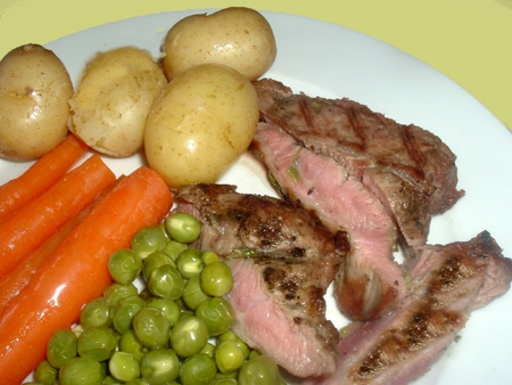background: (0, 3, 410, 231)
